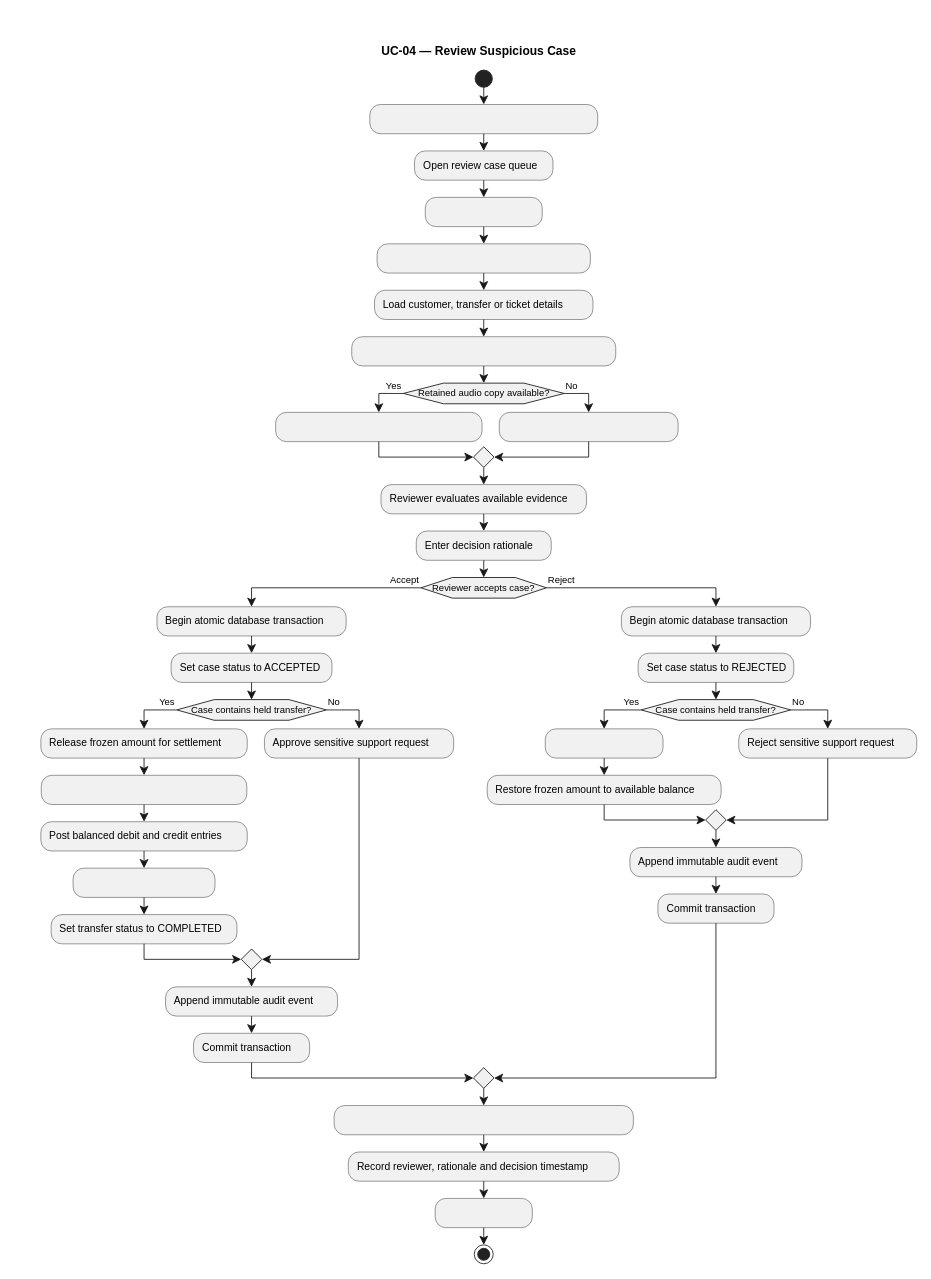
Some shapes in this 931 by 1279 pixel diagram are drawn without their labels. Each missing label, with the centre of its shape:
"Cancel held transfer" goes at [604,743].
"Claim case and set status to IN_REVIEW" goes at [483,258].
"Delete retained audio copy according to retention policy" goes at [483,1120].
"Display audio unavailable notice" goes at [588,426].
"Display triggered rules and assessment metadata" goes at [483,351].
"Lock source and destination accounts" goes at [144,789].
"Notify customer" goes at [483,1212].
"Reviewer authenticates to staff dashboard" goes at [483,119].
"Reviewer listens to retained recording" goes at [378,426].
"Select an OPEN case" goes at [483,211].
"Update account balances" goes at [143,882].
